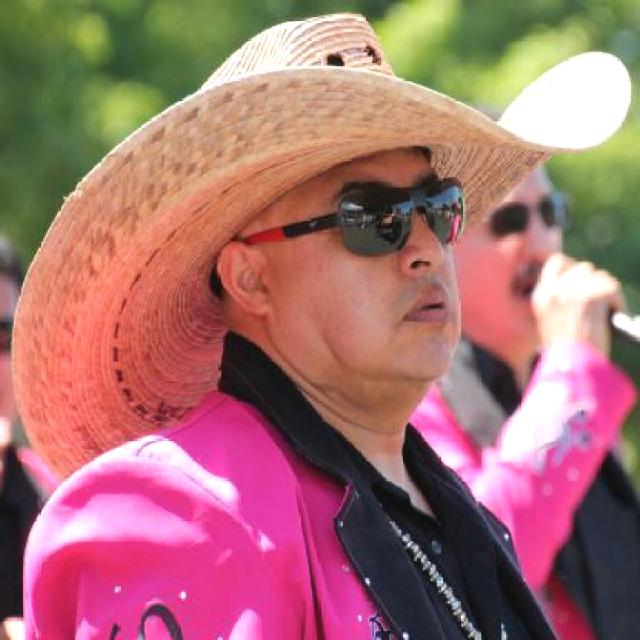face_nomask: (348, 188, 474, 346)
glasses: (316, 184, 478, 259), (482, 196, 580, 244)
hand_noglove: (527, 253, 627, 352)
head_nohelmet: (163, 28, 459, 192)
